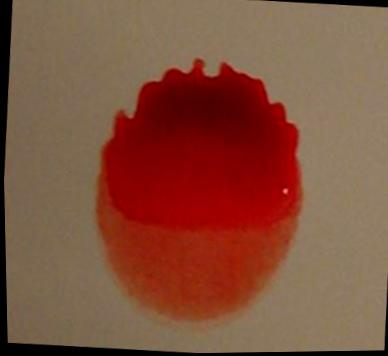Fire: (93, 59, 300, 325)
